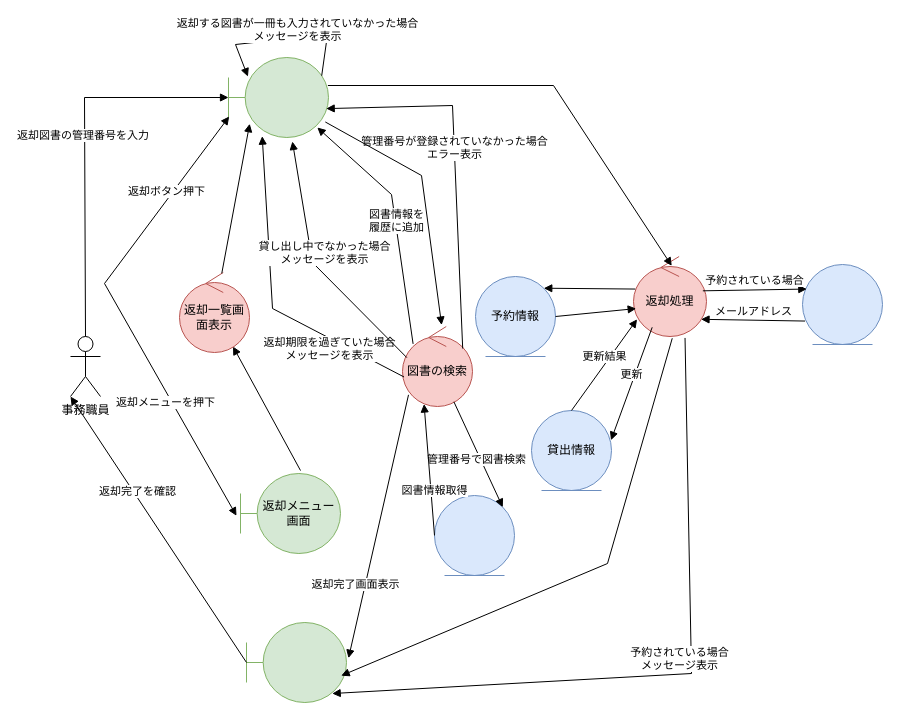
The diagram is 900 pixels wide and 721 high, and some of its shapes have lost their labels. Here are the shapes that lost their labels. From the top down, the centre of each, then its label:
[278,97]: 返却一覧画面
[842,304]: 会員情報
[474,535]: 図書
[296,662]: 退却完了画面
